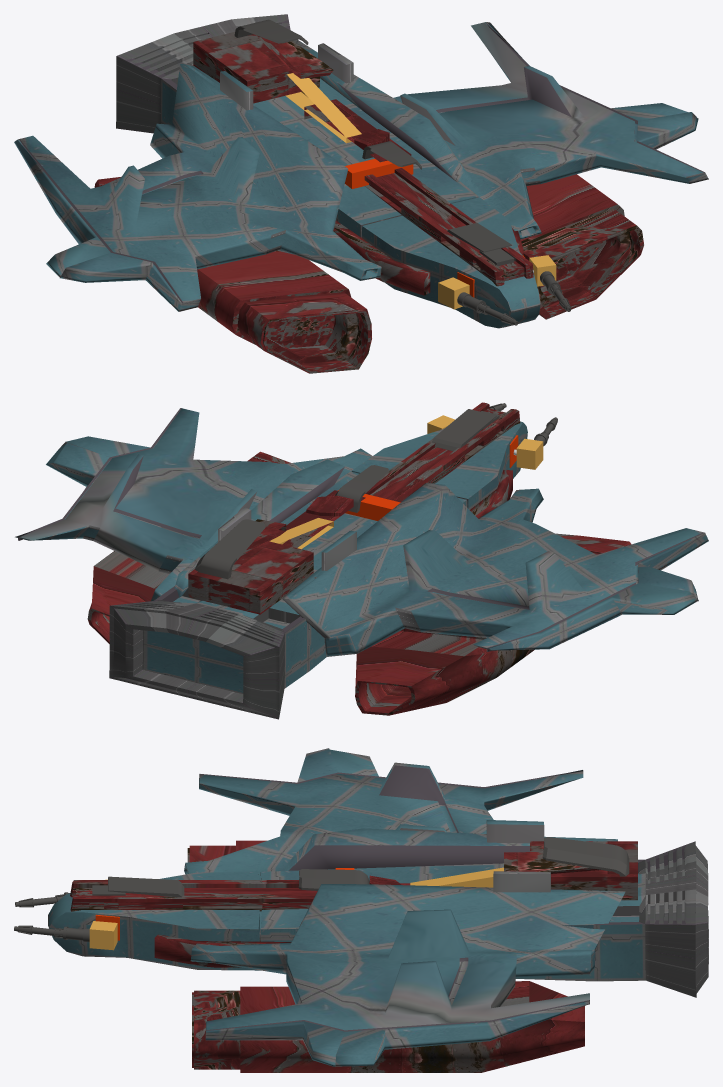
File: space ship.gltf
3 views of the same model, one above another, from view 1: azimuth 30°, elevation 25°; view 2: azimuth 150°, elevation 25°; view 3: azimuth 270°, elevation 25° (orthographic).
Visible parts, largest first — view 1: Cube.016, Cube.015, Cube, Cube.018, Cube.017, Cube.001, Cube.020, Cube.014, Cube.007, Cube.006, Cube.008, Cube.005 (+5 smaller); view 2: Cube.016, Cube.015, Cube, Cube.018, Cube.020, Cube.001, Cube.017, Cube.019, Cube.006, Cube.003, Cube.004, Cube.014 (+4 smaller); view 3: Cube.015, Cube.016, Cube, Cube.017, Cube.001, Cube.020, Cube.019, Cube.013, Cube.003, Cube.008, Cube.004, Cube.007 (+3 smaller).
Part boxes in pixels (left/top/right/bottom): Cube.016: left=14, top=63, right=381, bottom=311; Cube.015: left=293, top=22, right=708, bottom=239; Cube: left=116, top=14, right=540, bottom=328; Cube.018: left=94, top=176, right=371, bottom=373; Cube.017: left=520, top=174, right=643, bottom=319; Cube.001: left=364, top=168, right=533, bottom=286; Cube.020: left=193, top=32, right=319, bottom=103; Cube.014: left=333, top=220, right=430, bottom=295; Cube.007: left=285, top=73, right=361, bottom=143; Cube.006: left=304, top=99, right=411, bottom=162; Cube.008: left=258, top=36, right=333, bottom=78; Cube.005: left=345, top=159, right=413, bottom=188; Cube.016: left=282, top=483, right=708, bottom=656; Cube.015: left=15, top=408, right=372, bottom=601; Cube: left=109, top=421, right=527, bottom=719; Cube.018: left=355, top=533, right=631, bottom=715; Cube.020: left=188, top=541, right=313, bottom=614; Cube.001: left=365, top=402, right=520, bottom=502; Cube.017: left=87, top=451, right=290, bottom=643; Cube.019: left=195, top=519, right=265, bottom=579; Cube.006: left=282, top=490, right=365, bottom=547; Cube.003: left=432, top=409, right=496, bottom=451; Cube.004: left=335, top=465, right=388, bottom=512; Cube.014: left=470, top=470, right=512, bottom=518; Cube.015: left=190, top=871, right=625, bottom=1066; Cube.016: left=184, top=748, right=617, bottom=874; Cube: left=48, top=841, right=708, bottom=997; Cube.017: left=192, top=981, right=584, bottom=1072; Cube.001: left=70, top=880, right=317, bottom=911; Cube.020: left=530, top=841, right=637, bottom=900; Cube.019: left=542, top=837, right=629, bottom=876; Cube.013: left=154, top=934, right=291, bottom=967; Cube.003: left=108, top=876, right=184, bottom=897; Cube.008: left=504, top=852, right=600, bottom=873; Cube.004: left=298, top=869, right=369, bottom=890; Cube.007: left=410, top=867, right=503, bottom=887.
Size of what is drawn, in the model's own units: 61.35 by 16.2 by 57.43.
Materials: 23 (11 with a texture image).
